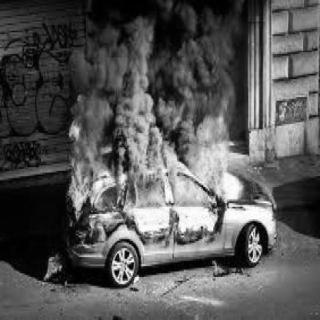Smoke: (71, 2, 239, 118)
